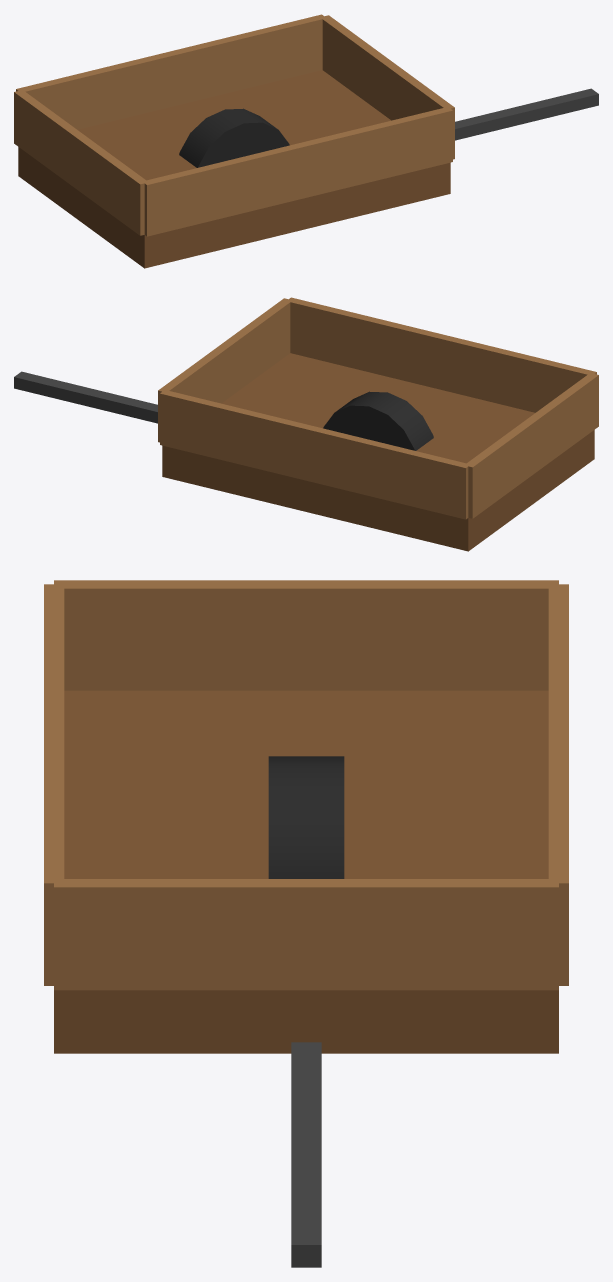
The model's file is trailer.glb.
3 renders of one model, top to bottom at view 1: azimuth 30°, elevation 25°; view 2: azimuth 150°, elevation 25°; view 3: azimuth 270°, elevation 25°, orthographic. The views are drawn at different scales.
Parts seen in each view (by area): view 1: bed, wheel; view 2: bed, wheel; view 3: bed, wheel.
Boxes of the visible parts, x1,y1,x2,y2 form: bed: (14,14,598,268); wheel: (179,108,289,167); bed: (14,297,598,551); wheel: (323,391,433,450); bed: (44,580,568,1267); wheel: (268,756,344,878).
Bounding box in the file's own units: 4.74 × 1.05 × 2.08.
